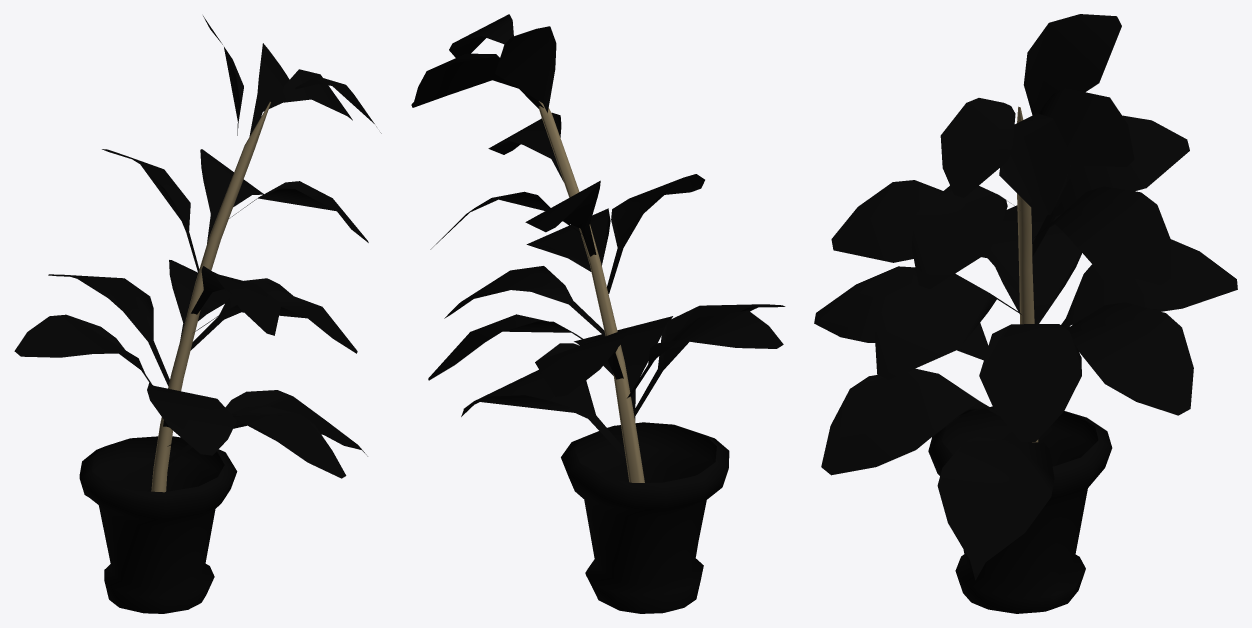
Rendered from rubber_2.fbx.
3 views of the same model, side by side, from view 1: azimuth 30°, elevation 25°; view 2: azimuth 150°, elevation 25°; view 3: azimuth 270°, elevation 25° (orthographic). The views are drawn at different scales.
Parts seen in each view (by area): view 1: rubberPlantPotted2Leaf, palmPotted2Flower5, rubberPlantPotted2Main; view 2: rubberPlantPotted2Leaf, palmPotted2Flower5, rubberPlantPotted2Main; view 3: rubberPlantPotted2Leaf, palmPotted2Flower5, rubberPlantPotted2Main.
Part boxes in pixels (<box>): rubberPlantPotted2Leaf: <box>14,16,381,478</box>; palmPotted2Flower5: <box>79,436,237,613</box>; rubberPlantPotted2Main: <box>151,101,270,492</box>; rubberPlantPotted2Leaf: <box>411,14,785,458</box>; palmPotted2Flower5: <box>561,422,729,613</box>; rubberPlantPotted2Main: <box>538,101,644,482</box>; rubberPlantPotted2Leaf: <box>814,14,1237,580</box>; palmPotted2Flower5: <box>928,406,1112,613</box>; rubberPlantPotted2Main: <box>1017,106,1038,442</box>.
Bounding box in the file's own units: 2.59 × 3.87 × 2.39.
